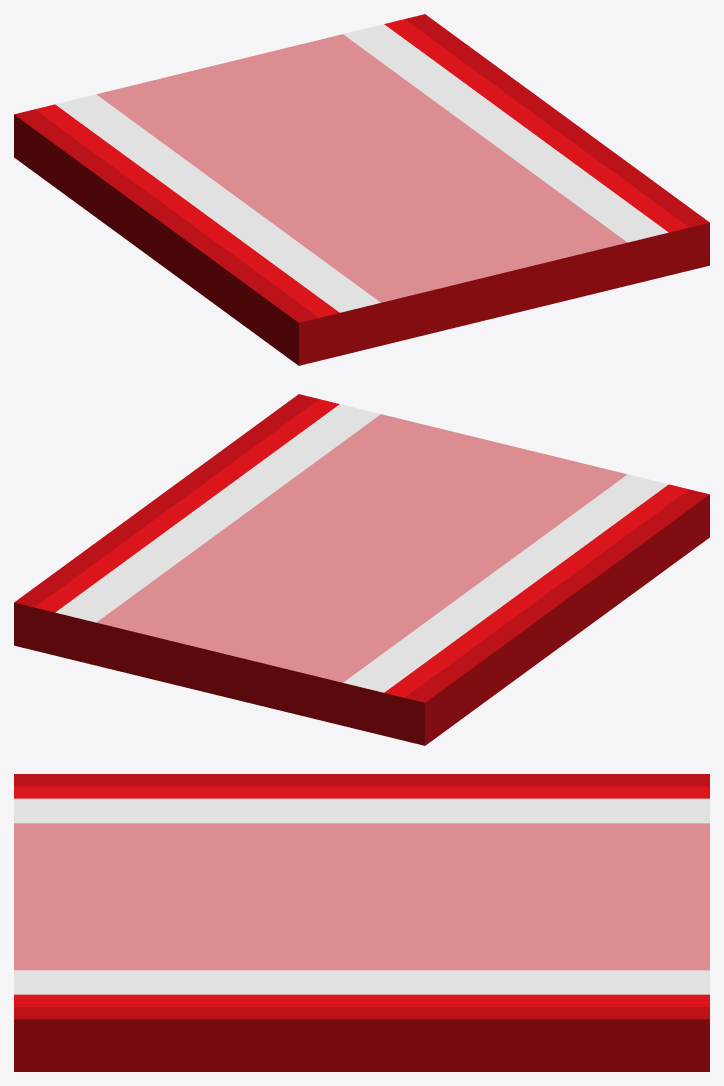
The model's file is flat.fbx.
3 renders of one model, top to bottom at view 1: azimuth 30°, elevation 25°; view 2: azimuth 150°, elevation 25°; view 3: azimuth 270°, elevation 25°, orthographic. The views are drawn at different scales.
Visible parts, largest first — view 1: StraightFlat; view 2: StraightFlat; view 3: StraightFlat.
Part boxes in pixels (x1,y1,x2,y2): StraightFlat: (14, 14, 709, 365); StraightFlat: (14, 394, 709, 745); StraightFlat: (14, 774, 709, 1071).
Size of the model in its own units: 10 by 1 by 12.
